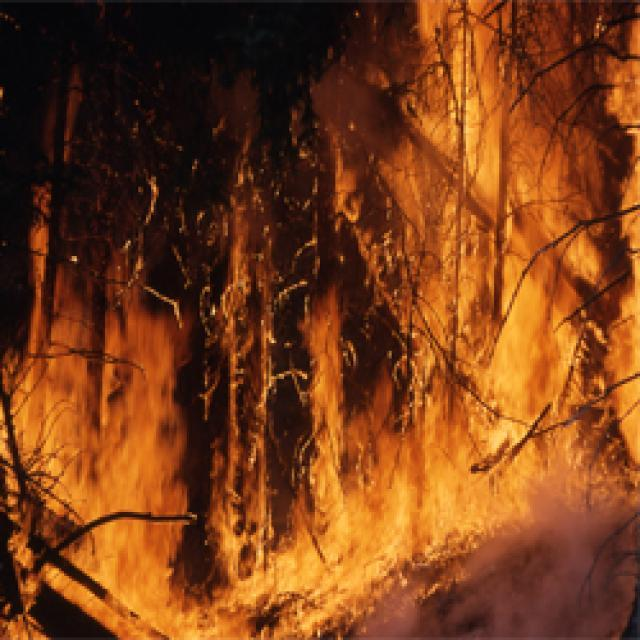Fire: (0, 205, 320, 631), (317, 0, 635, 293), (376, 194, 640, 458)
Smoke: (358, 463, 640, 640)
